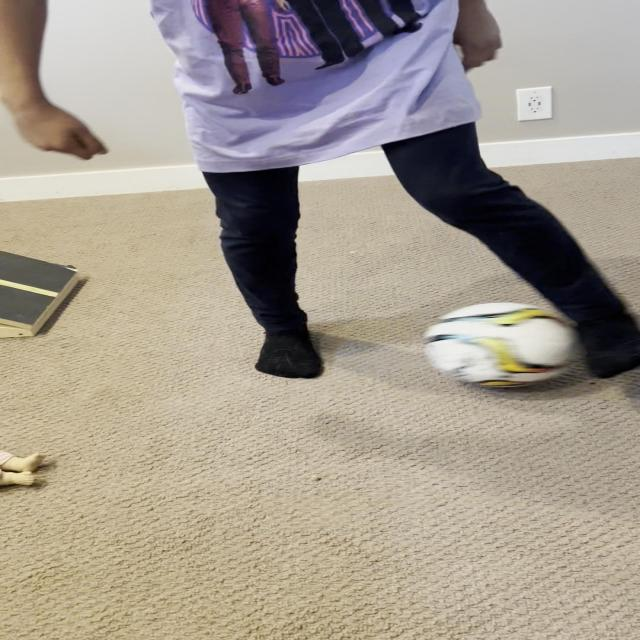Soccer Ball: (424, 302, 584, 387)
